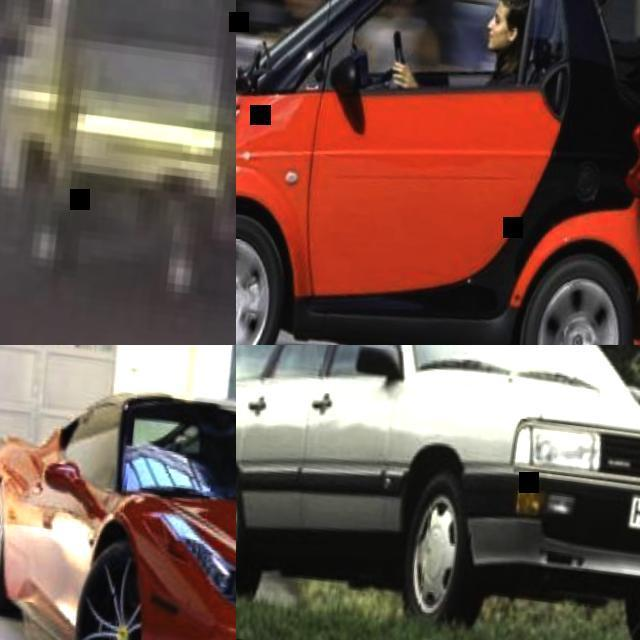car: (482, 207, 639, 344)
